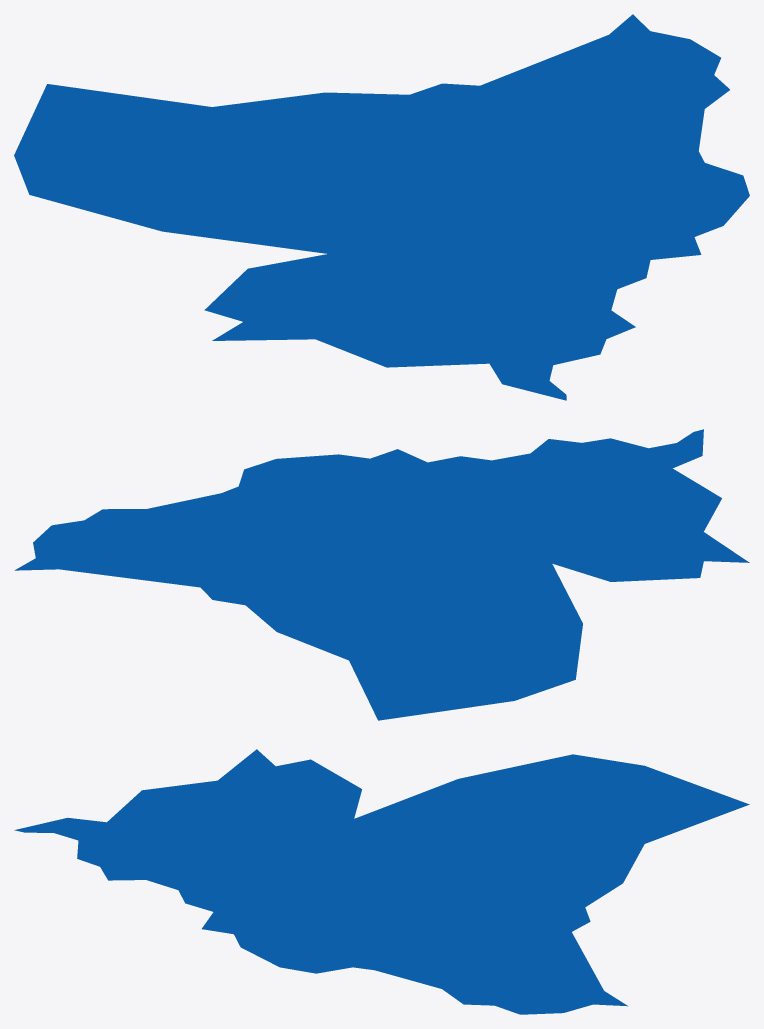
The model's file is alpes_maritimes.glb.
The picture shows the model from 3 angles, top to bottom: view 1: azimuth 30°, elevation 25°; view 2: azimuth 150°, elevation 25°; view 3: azimuth 270°, elevation 25°; orthographic projection. The views are drawn at different scales.
Parts seen in each view (by area): view 1: Alpes_maritimes; view 2: Alpes_maritimes; view 3: Alpes_maritimes.
Boxes of the visible parts, bbox=[...] form: Alpes_maritimes: bbox=[14, 14, 749, 400]; Alpes_maritimes: bbox=[14, 429, 749, 720]; Alpes_maritimes: bbox=[14, 749, 749, 1014].
Bounding box in the file's own units: 112714 × 0.0223 × 131984.
